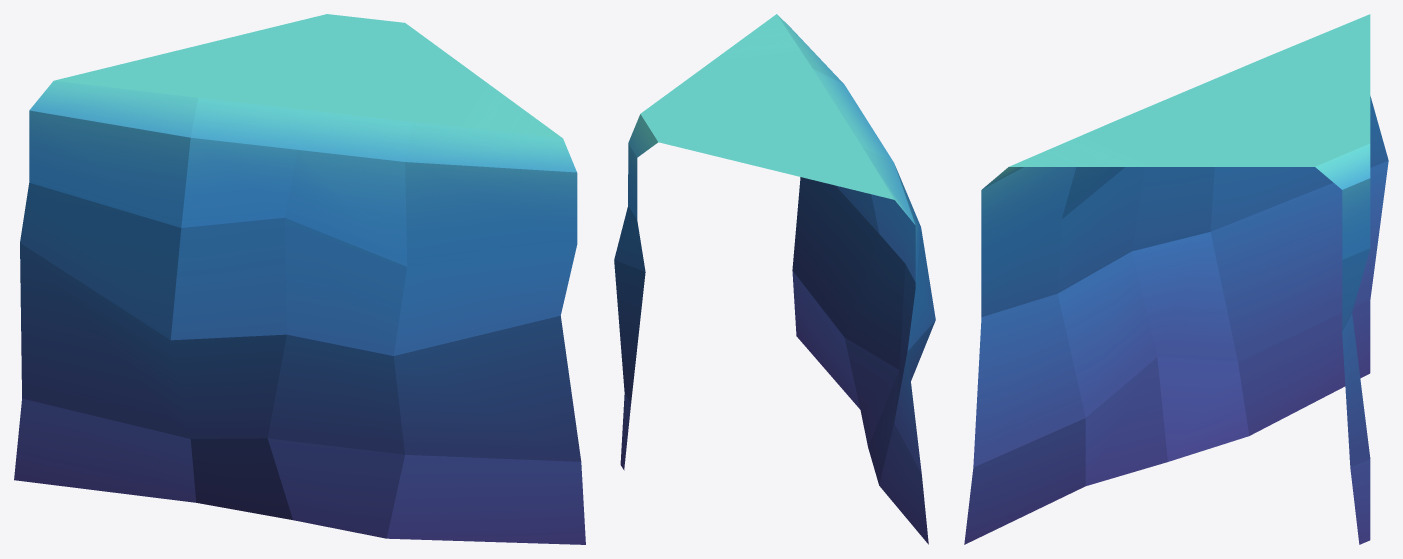
3 views of the same model, side by side, from view 1: azimuth 30°, elevation 25°; view 2: azimuth 150°, elevation 25°; view 3: azimuth 270°, elevation 25° (orthographic). The views are drawn at different scales.
Parts seen in each view (by area): view 1: Diagonal.004, DiagonalCornerTop.004; view 2: Diagonal.004, DiagonalCornerTop.004, InnerCorner.012; view 3: Diagonal.004, DiagonalCornerTop.004, InnerCorner.012.
Boxes of the visible parts, <box> form: Diagonal.004: <box>14,80,585,544</box>; DiagonalCornerTop.004: <box>54,14,562,138</box>; Diagonal.004: <box>777,14,935,544</box>; DiagonalCornerTop.004: <box>640,14,894,199</box>; InnerCorner.012: <box>614,114,658,470</box>; Diagonal.004: <box>964,96,1388,544</box>; DiagonalCornerTop.004: <box>1009,14,1370,166</box>; InnerCorner.012: <box>1315,143,1370,544</box>.
Size of the model in its own units: 305 by 305 by 305.
